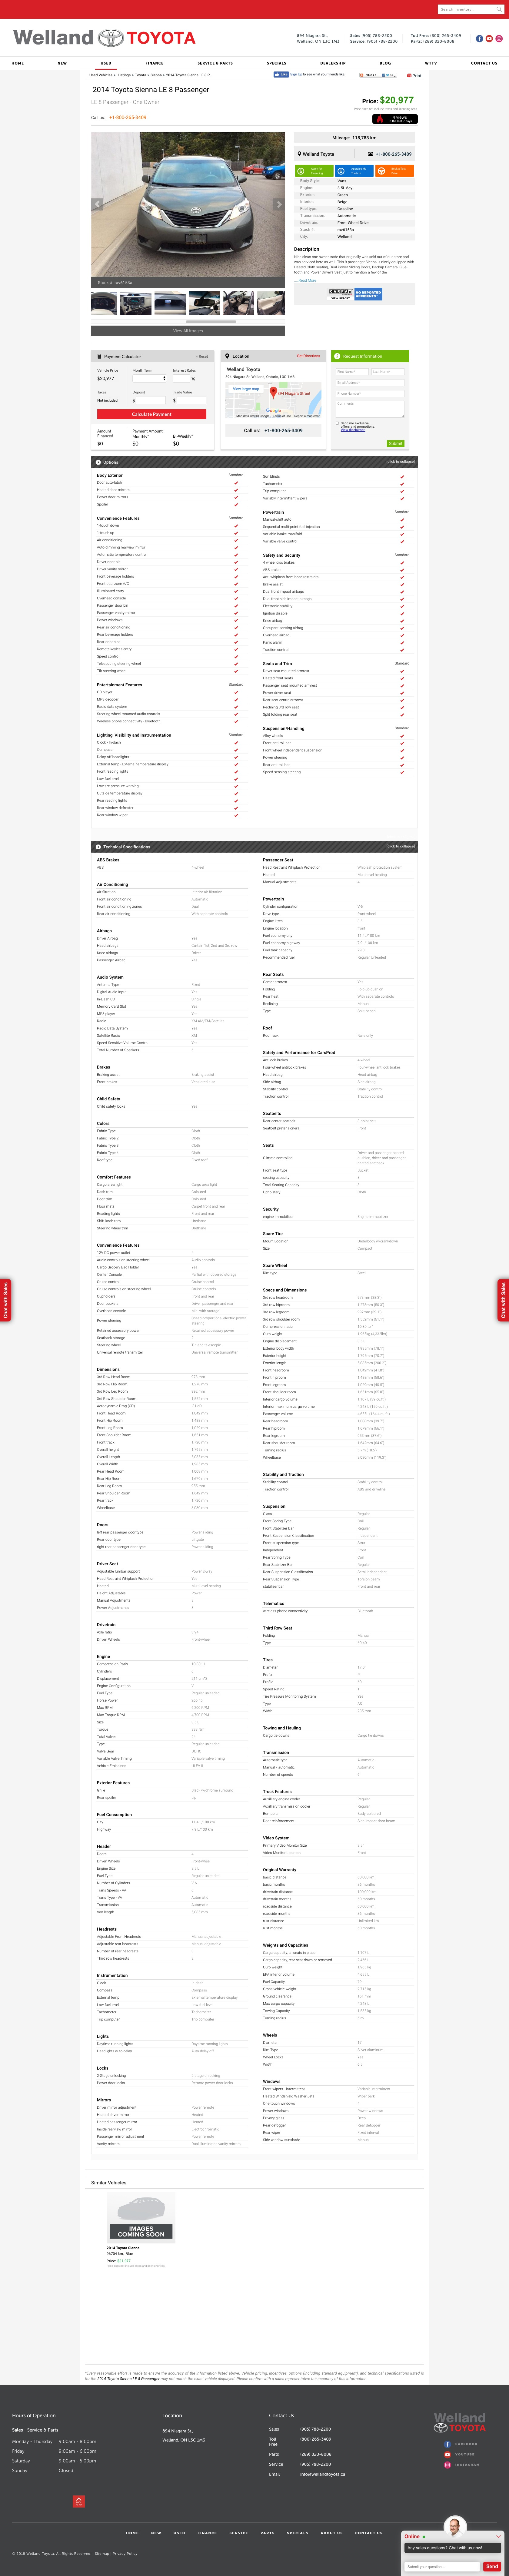car: (273, 197, 286, 212)
